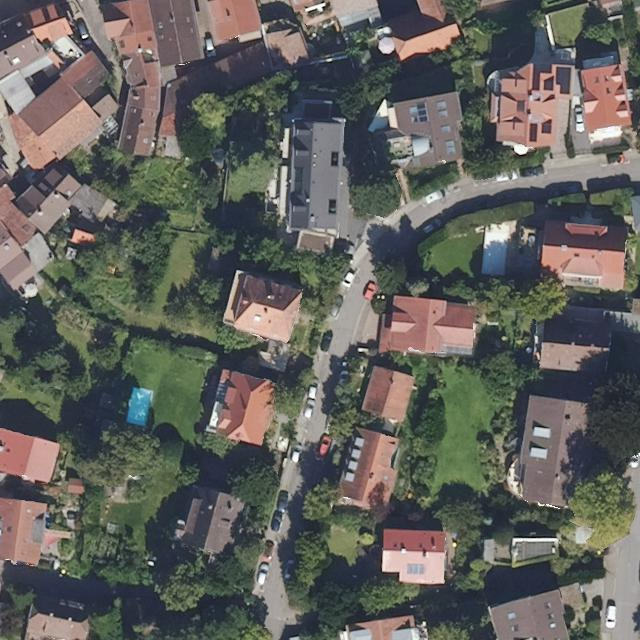PV: (416, 102, 429, 124), (408, 563, 424, 575)
